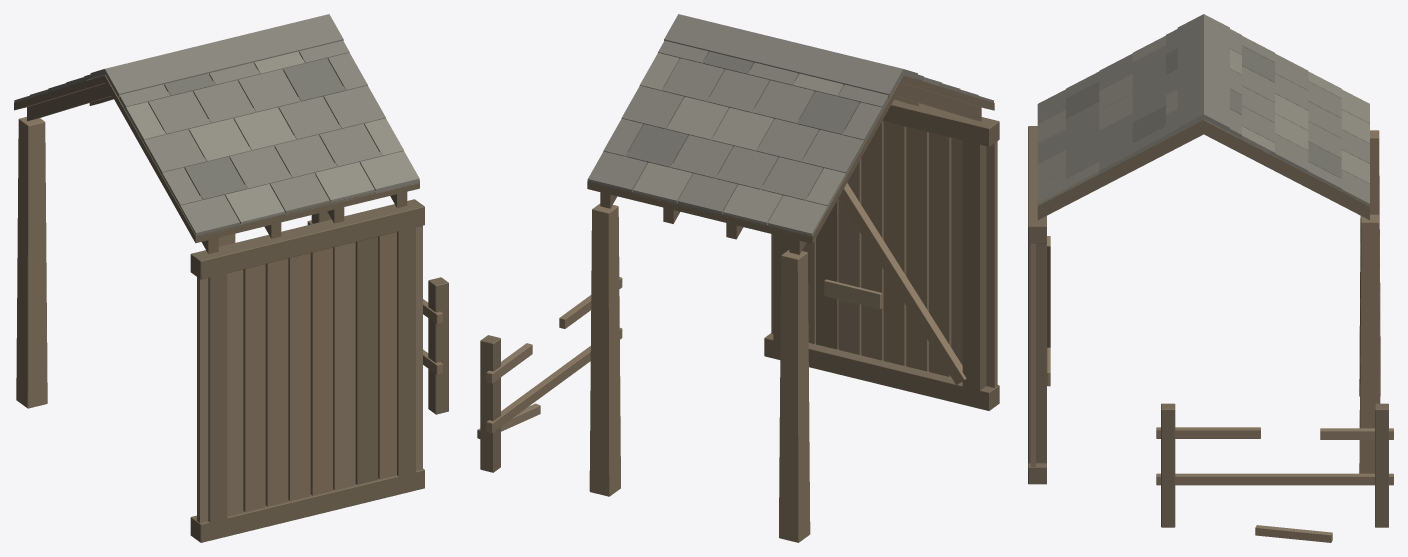
Rendered from shelter_assembly_reference.glb.
3 renders of one model, left to right at view 1: azimuth 30°, elevation 25°; view 2: azimuth 150°, elevation 25°; view 3: azimuth 270°, elevation 25°, orthographic. The views are drawn at different scales.
Visible parts, largest first — view 1: material_0, material_2, material_4, material_1, material_5, material_6; view 2: material_0, material_4, material_2, material_5, material_1, material_6, material_3; view 3: material_4, material_2, material_0, material_5, material_6, material_1.
Boxes of the visible parts, x1=… form: material_0: x1=16, y1=117, x2=442, y2=511; material_2: x1=14, y1=75, x2=448, y2=542; material_4: x1=48, y1=14, x2=385, y2=237; material_1: x1=197, y1=220, x2=422, y2=522; material_5: x1=14, y1=51, x2=419, y2=225; material_6: x1=164, y1=58, x2=345, y2=199; material_0: x1=486, y1=121, x2=966, y2=542; material_4: x1=587, y1=14, x2=993, y2=216; material_2: x1=480, y1=75, x2=999, y2=472; material_5: x1=633, y1=53, x2=941, y2=237; material_1: x1=477, y1=138, x2=997, y2=438; material_6: x1=626, y1=51, x2=859, y2=167; material_3: x1=824, y1=279, x2=882, y2=309; material_4: x1=1037, y1=14, x2=1369, y2=205; material_2: x1=1028, y1=119, x2=1388, y2=527; material_0: x1=1047, y1=130, x2=1393, y2=485; material_5: x1=1037, y1=35, x2=1369, y2=205; material_6: x1=1066, y1=46, x2=1341, y2=178; material_1: x1=1030, y1=243, x2=1393, y2=542.
Size of the model in its own units: 3.17 by 3.44 by 3.08.
